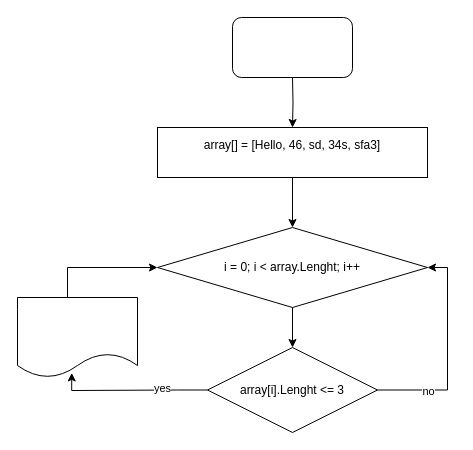
The diagram is 473 pixels wide and 450 high, and some of its shapes have lost their labels. Here are the shapes that lost their labels. From the top down, the centre of each, then its label:
[292,47]: Start
[77,337]: print(array[i])
